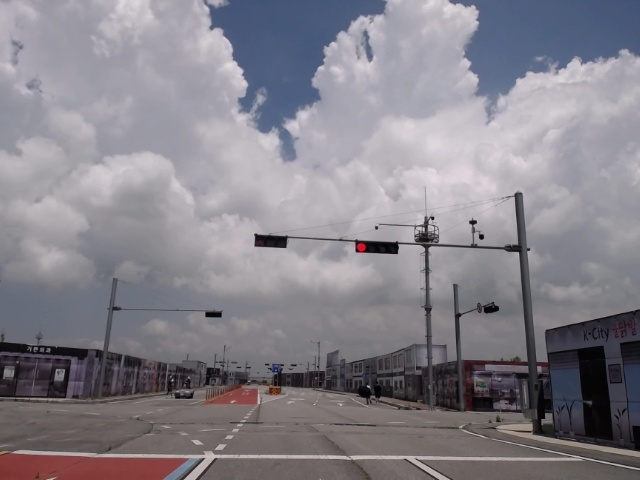red_4: (355, 241, 398, 254)
